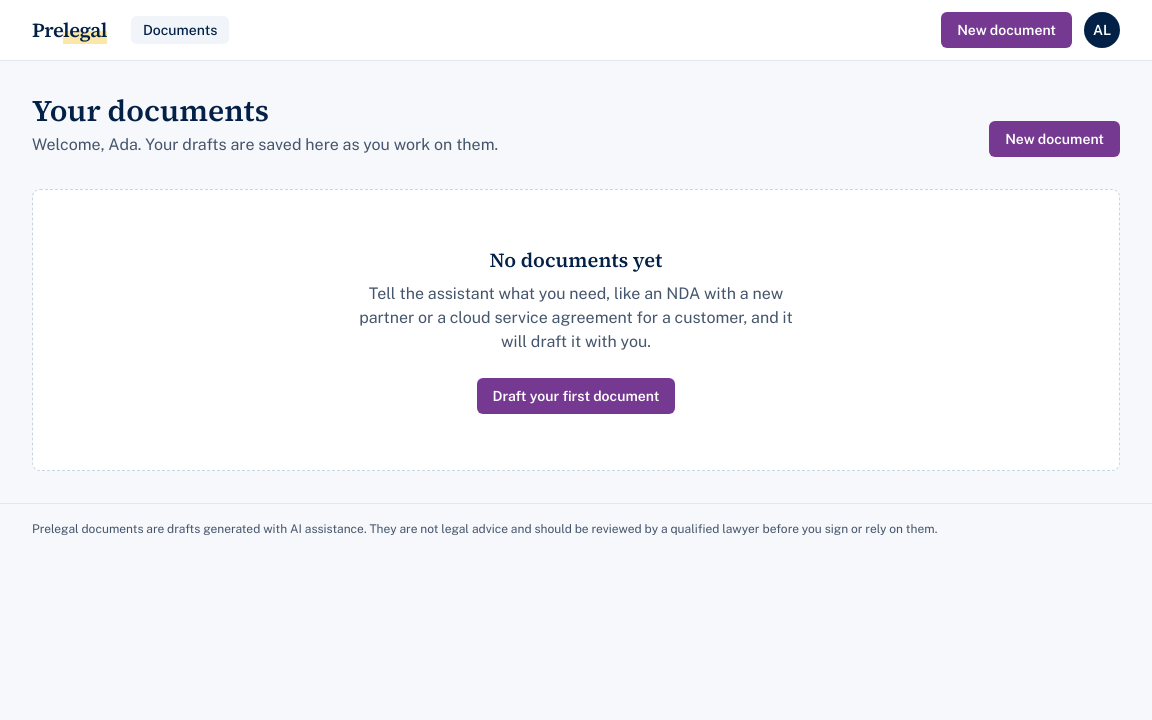
Test case: documents page › closes the account menu with Escape
Click the button with aria-label "Account menu for Ada Lovelace" at (1102, 30), box [1084,12,1120,48]
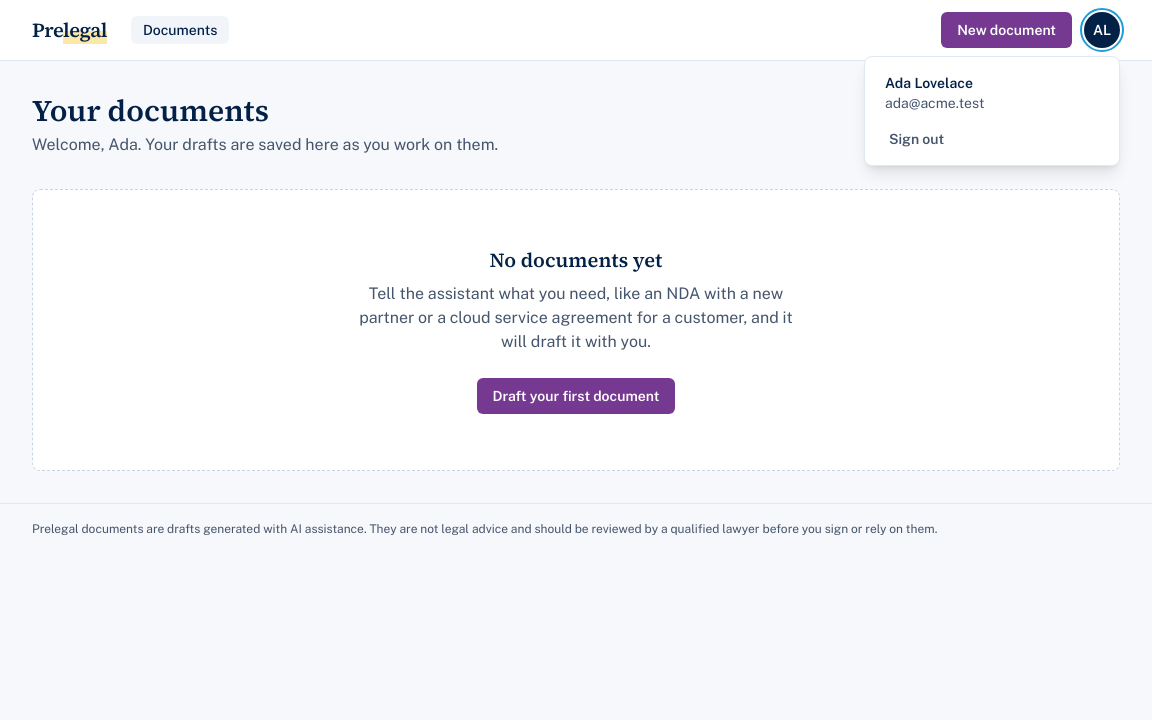
Press Escape
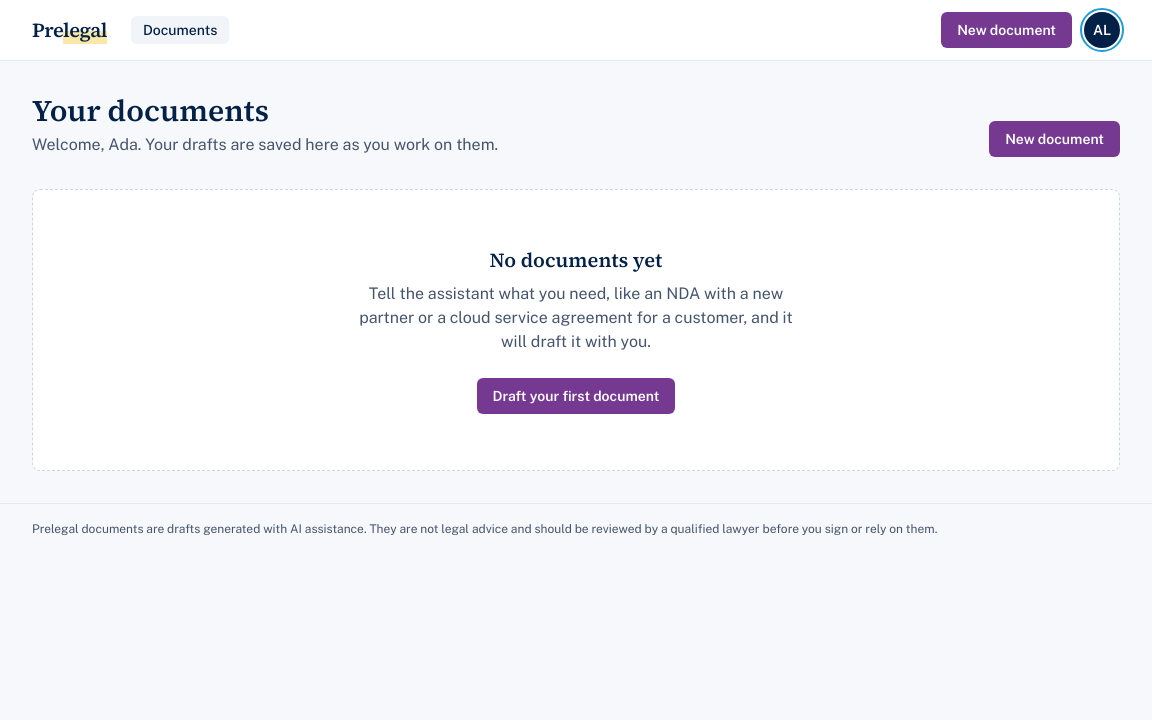
Expected: the button "Sign out" is gone
